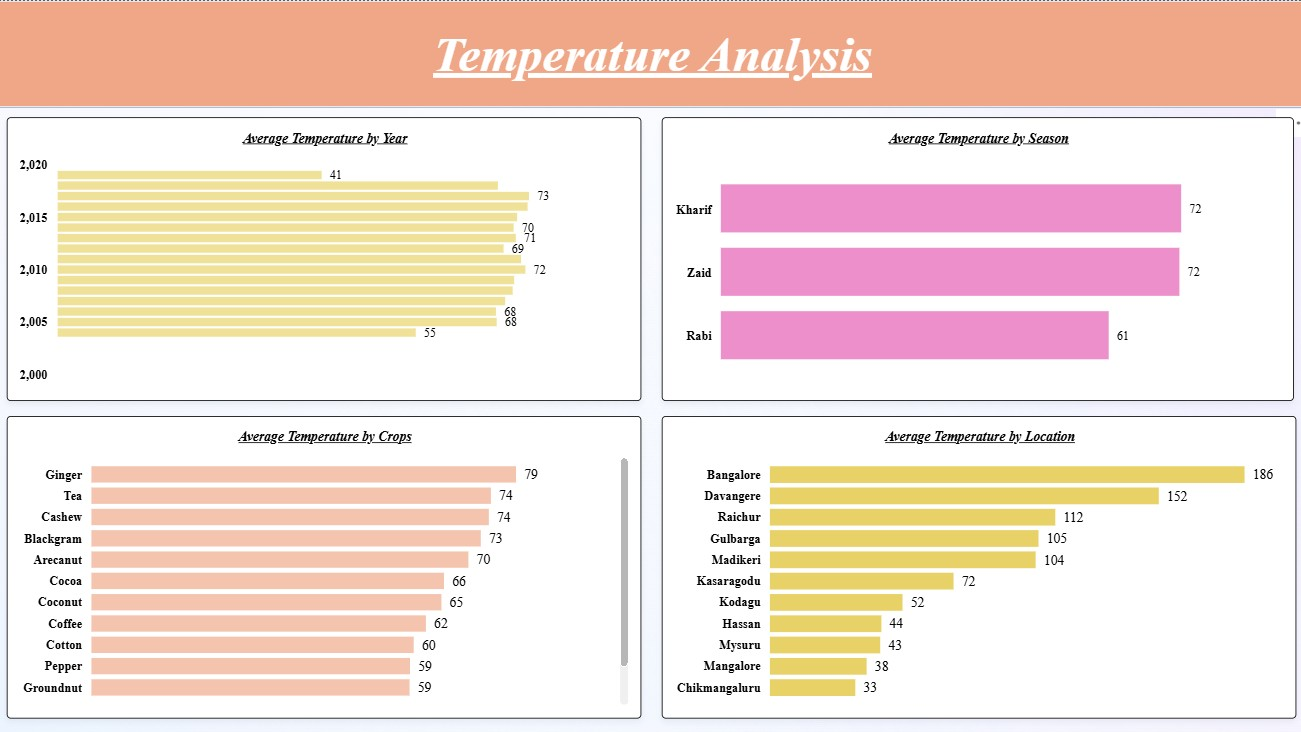

Layout of this report page (visuals, bound fields, positions):
{"tool":"powerbi","page":{"name":"Temperature Analysis","canvas":[1280,720],"ordinal":1},"visuals":[{"type":"shape","box":[0,0,1280.3,104.3],"z":0},{"type":"barChart","title":"Average Temperature by Year ","fields":{"Category":["AGRICULTURE.YEAR"],"Y":["Avg(AGRICULTURE.TEMPERATURE)"]},"box":[8.6,113.7,621.2,277.6],"z":1000},{"type":"barChart","title":"Average Temperature by Season","fields":{"Category":["AGRICULTURE.SEASON"],"Y":["Avg(AGRICULTURE.TEMPERATURE)"]},"box":[649.3,113.7,618.8,277.6],"z":2000},{"type":"barChart","title":"Average Temperature by Crops","fields":{"Category":["AGRICULTURE.CROPS"],"Y":["Avg(AGRICULTURE.TEMPERATURE)"]},"box":[8.6,406,621.2,295.9],"z":3000},{"type":"barChart","title":"Average Temperature by Location","fields":{"Category":["AGRICULTURE.LOCATION"],"Y":["Avg(AGRICULTURE.TEMPERATURE)"]},"box":[649.3,406,621.2,295.9],"z":4000}]}

Visuals, with their boxes in screenshot pixels (x1, y1, x2, y2), scaled from the page's 1280x720 canvas onto the 1301x732 screenshot:
shape: bbox(0, 0, 1300, 106)
"Average Temperature by Year " barChart: bbox(9, 116, 640, 398)
"Average Temperature by Season" barChart: bbox(660, 116, 1289, 398)
"Average Temperature by Crops" barChart: bbox(9, 413, 640, 714)
"Average Temperature by Location" barChart: bbox(660, 413, 1291, 714)
